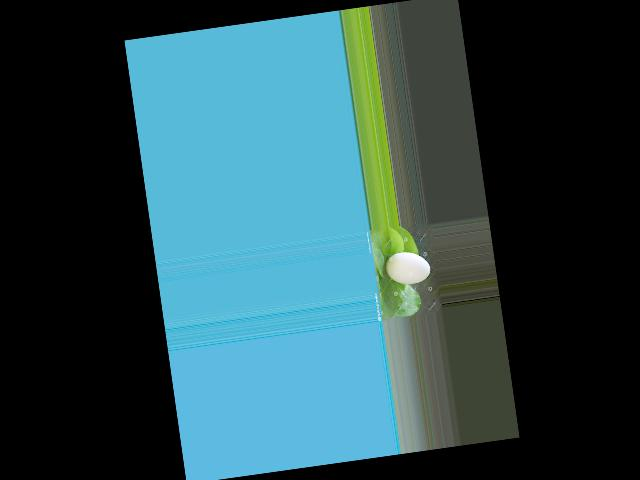egg: (383, 248, 431, 287)
